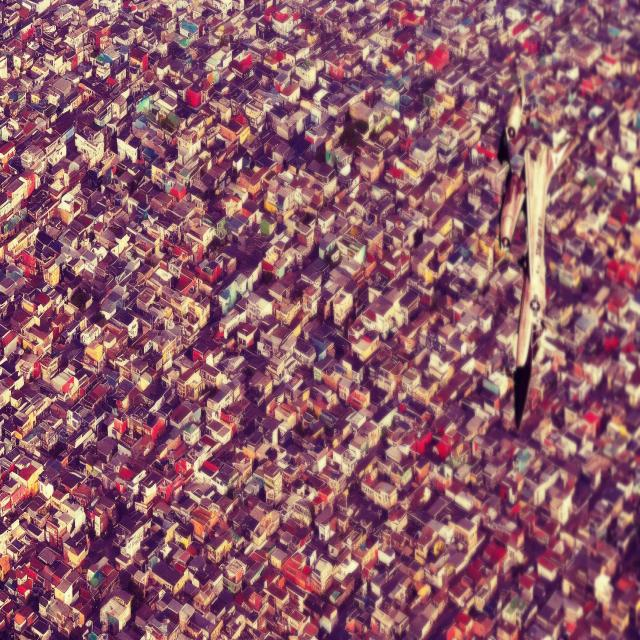airplane: (499, 76, 571, 432)
